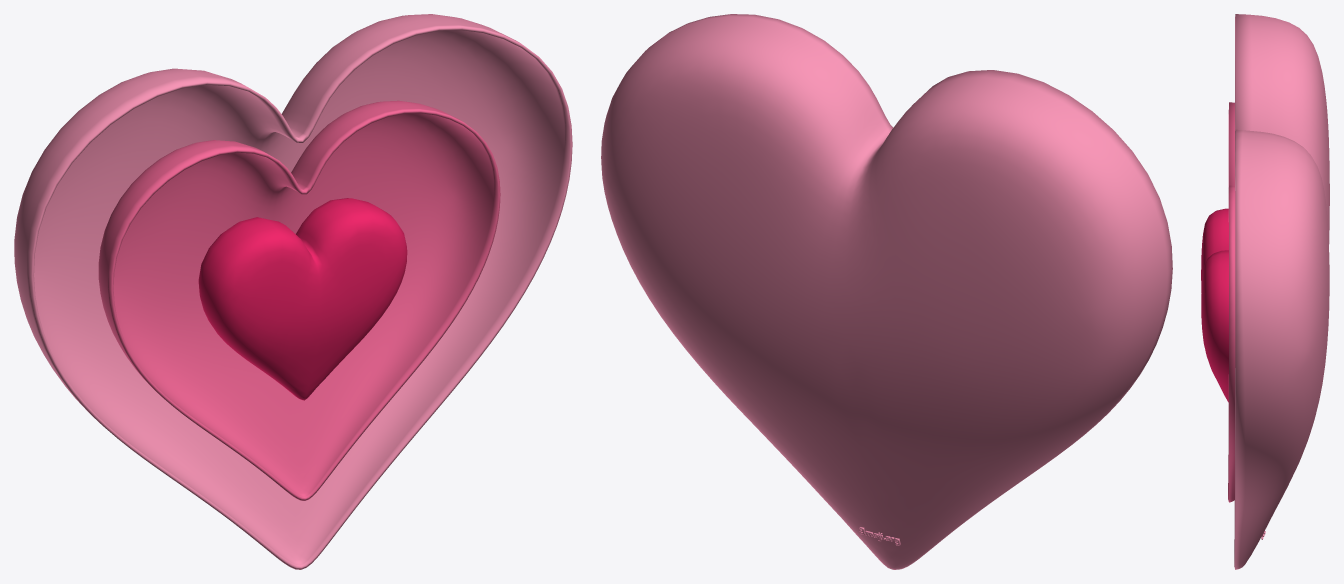
Rendered from growing_heart.fbx.
The picture shows the model from 3 angles, left to right: view 1: azimuth 30°, elevation 25°; view 2: azimuth 150°, elevation 25°; view 3: azimuth 270°, elevation 25°; orthographic projection. The views are drawn at different scales.
Visible parts, largest first — view 1: hfdjkslfjkds.006; view 2: hfdjkslfjkds.006; view 3: hfdjkslfjkds.006.
Boxes of the visible parts, x1=… form: hfdjkslfjkds.006: x1=14, y1=14, x2=572, y2=569; hfdjkslfjkds.006: x1=601, y1=14, x2=1172, y2=569; hfdjkslfjkds.006: x1=1201, y1=14, x2=1329, y2=569.
Size of the model in its own units: 186 by 168 by 40.54.
1 material, 1 textured.
